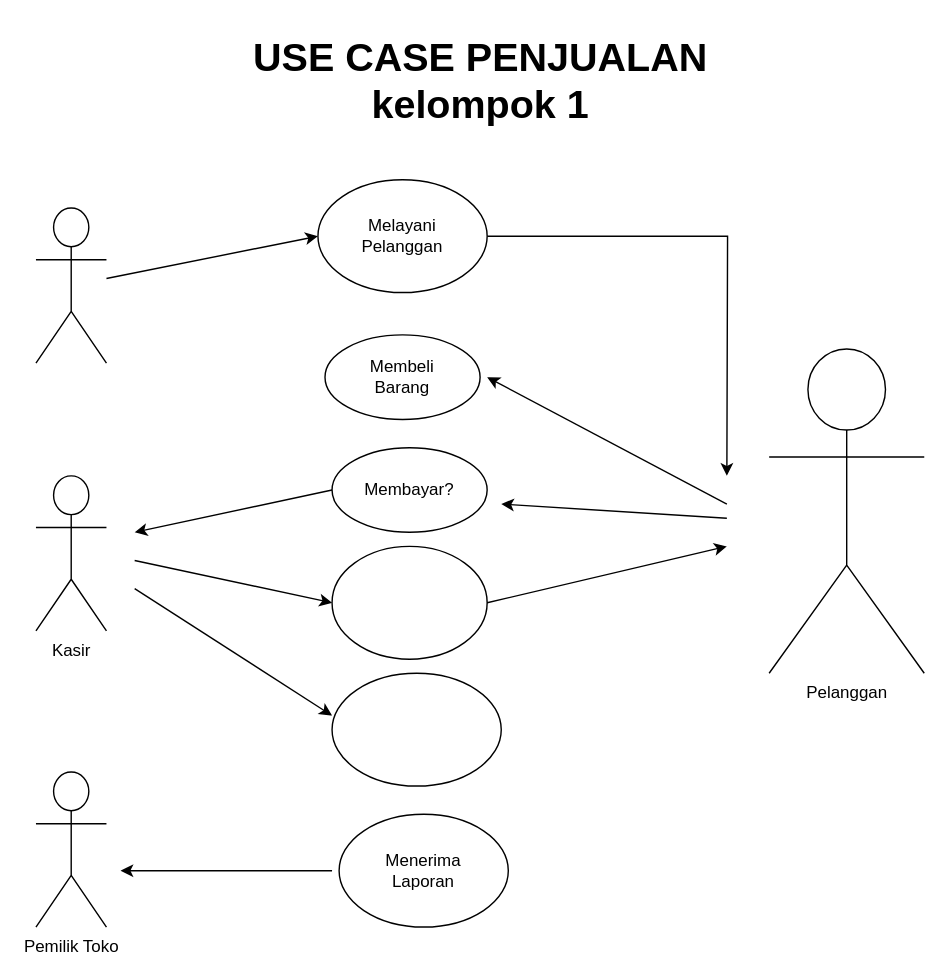
Image size: 949x980. Some labels were removed from this diagram. Here are the shapes that lost their labels. From the top down, the centre of each, then its label:
[70,285]: Sales
[409,602]: Mendapatkan bukti pembayaran
[416,729]: Membuat laporan penjualan
